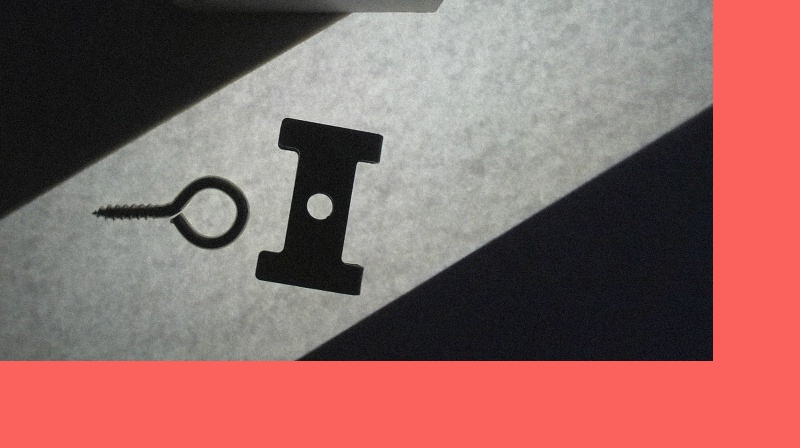O001: (92, 171, 250, 253)
O002: (251, 116, 386, 294)
